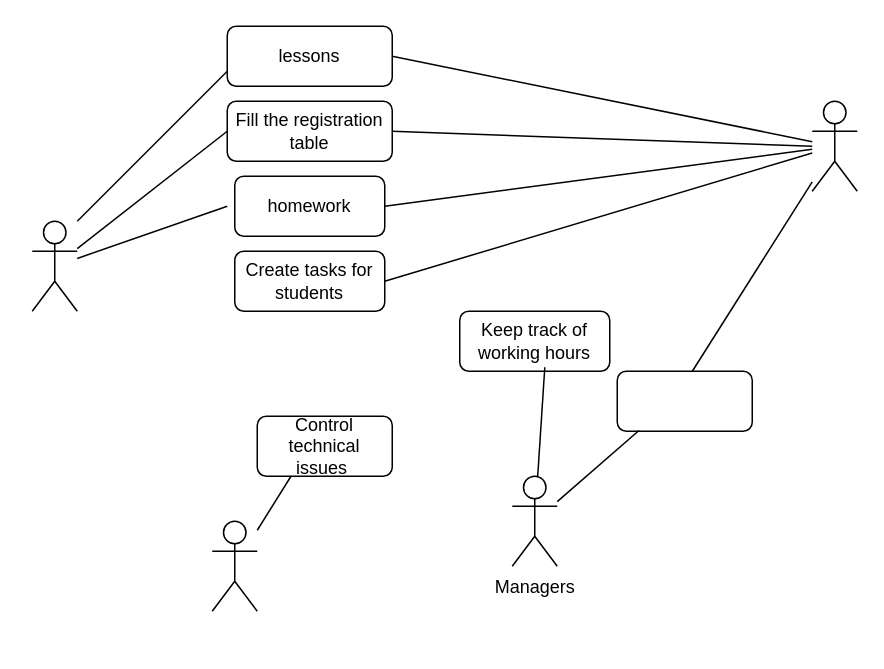
This 884x669 diagram has some shape labels left out. Here are the shapes that lost their labels. From the top down, the centre of each, then its label:
At [834,145]: "tutor".
At [54,265]: "student".
At [684,400]: "salary".
At [234,565]: "Technical support".
